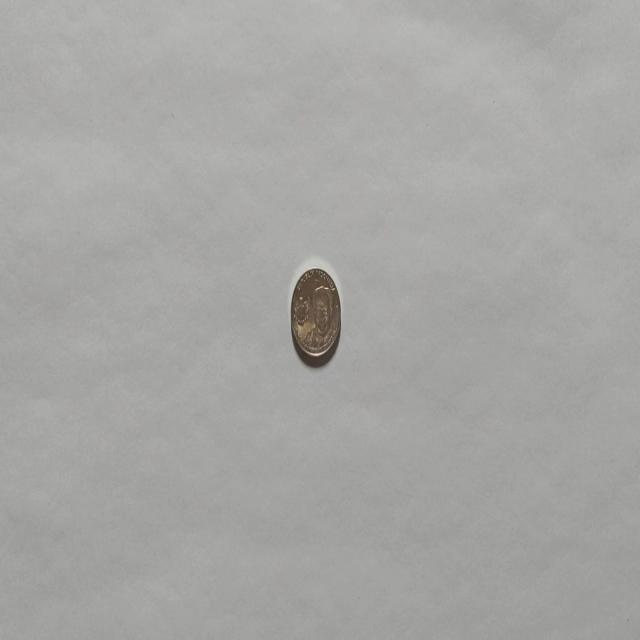seratus rupiah: (289, 266, 341, 362)
